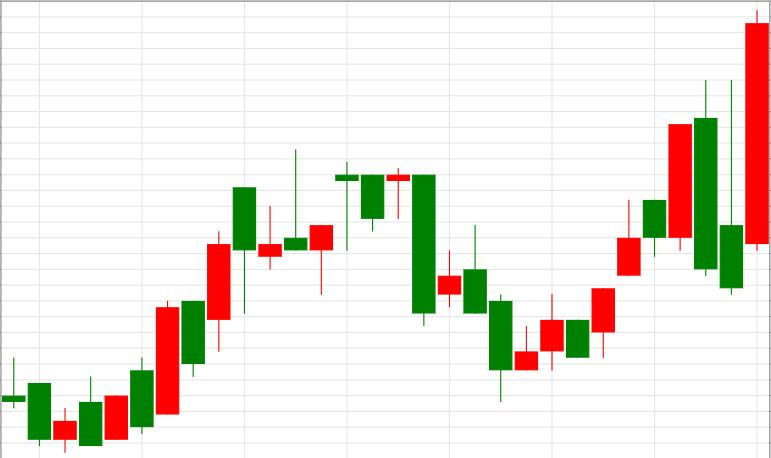bearish_engulfing_fall: (514, 79, 718, 372)
